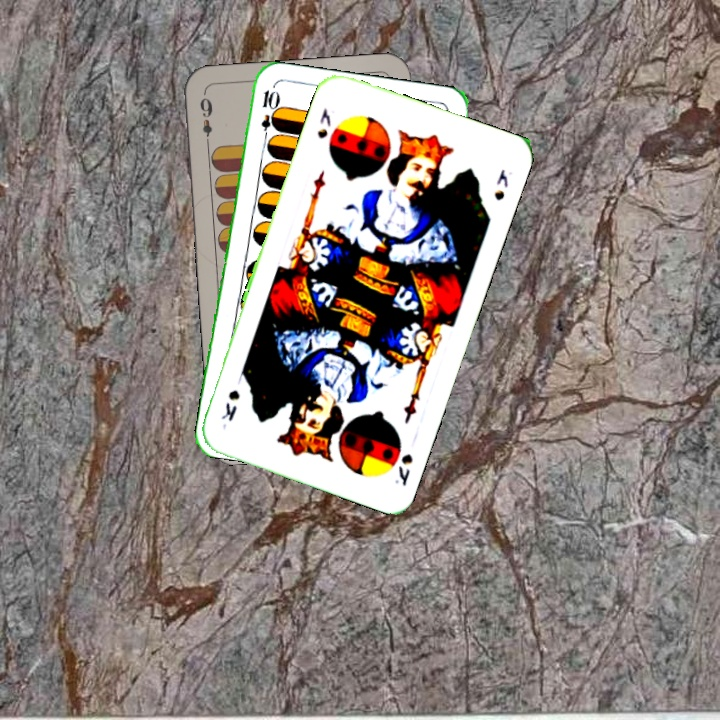E10: (256, 85, 277, 145)
E9: (195, 93, 215, 150)
SK: (390, 449, 416, 489), (313, 103, 334, 141)
